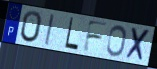F: (81, 19, 110, 54)
I: (43, 12, 55, 47)
L: (64, 16, 80, 52)
O: (19, 10, 43, 44), (105, 25, 127, 59)
X: (124, 27, 151, 64)
